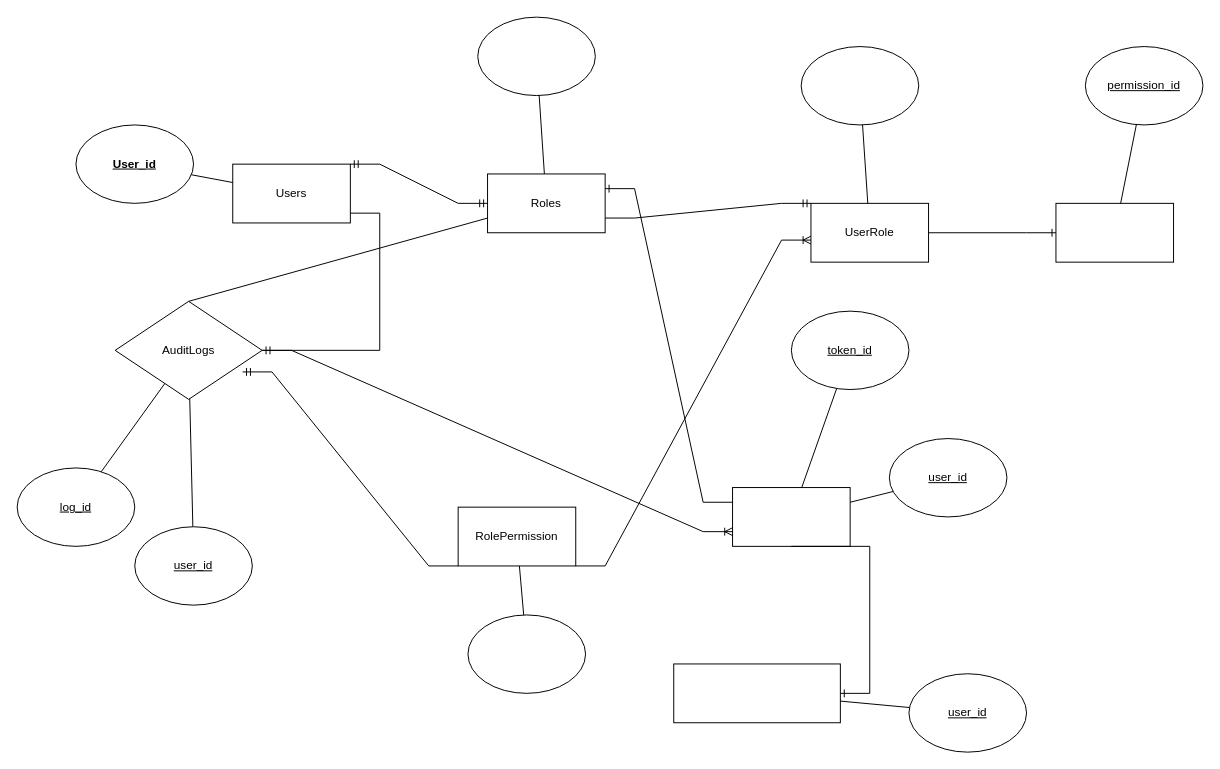
The diagram is 1220 pixels wide and 769 high, and some of its shapes have lost their labels. Here are the shapes that lost their labels. From the top down, the centre of each, then its label:
point (536, 56): role_id
point (859, 85): User_role_id
point (1114, 232): Permission
point (791, 516): PasswordResset
point (526, 653): role_permission_id
point (756, 693): TwoFactorAuthentication
